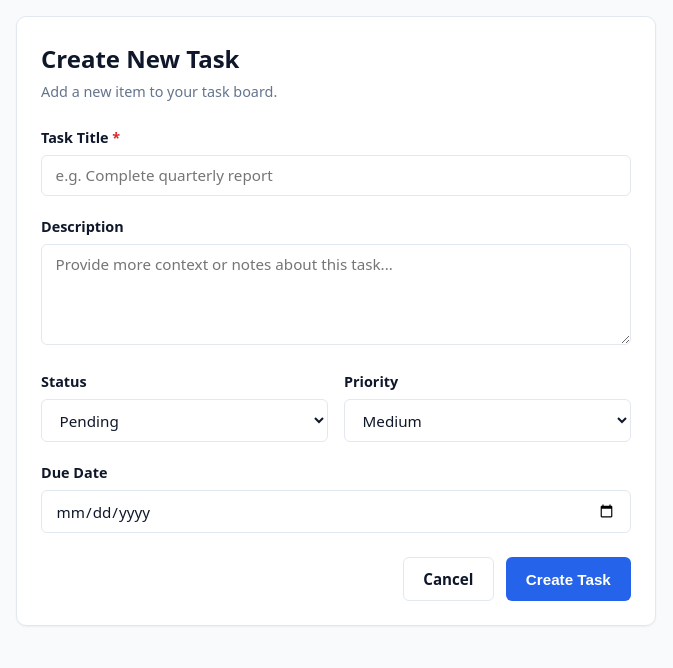
Test case: Task Interactions › CreateTask Component › validates required title field
Click the button "Create Task" at (568, 579), box [506,557,631,601]
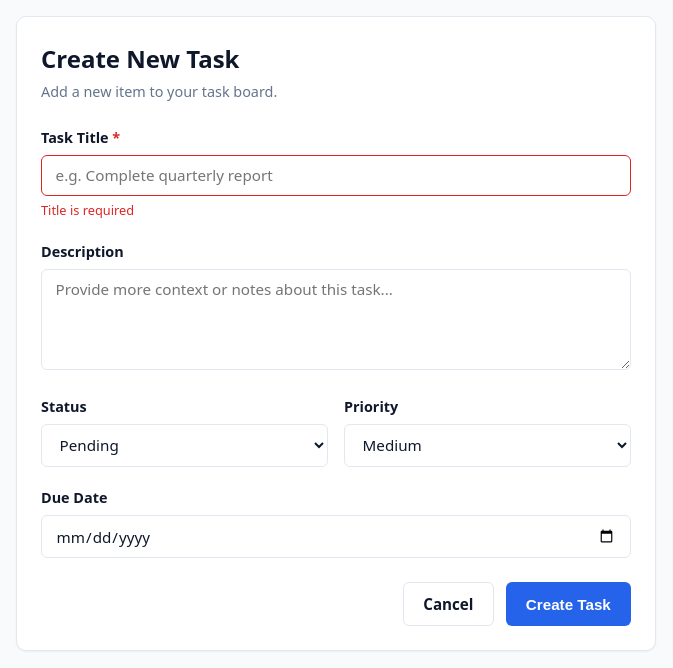
Now the text "Title is required" is shown, box [41,201,134,219]
